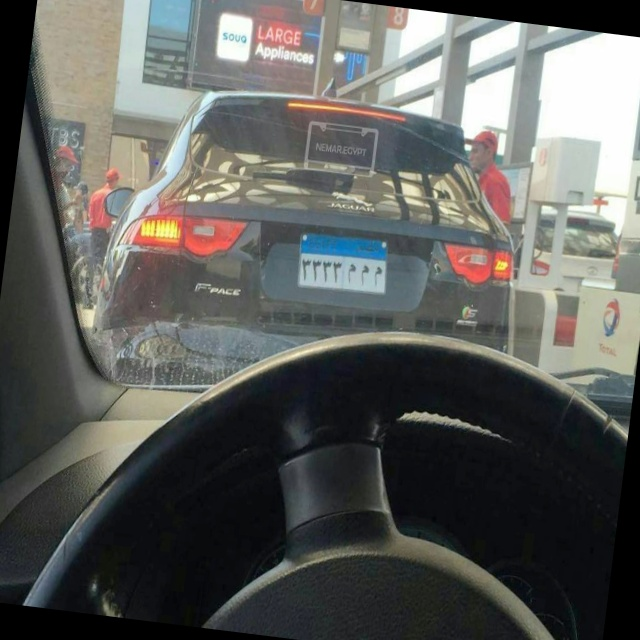License Plate: (291, 226, 395, 302)
